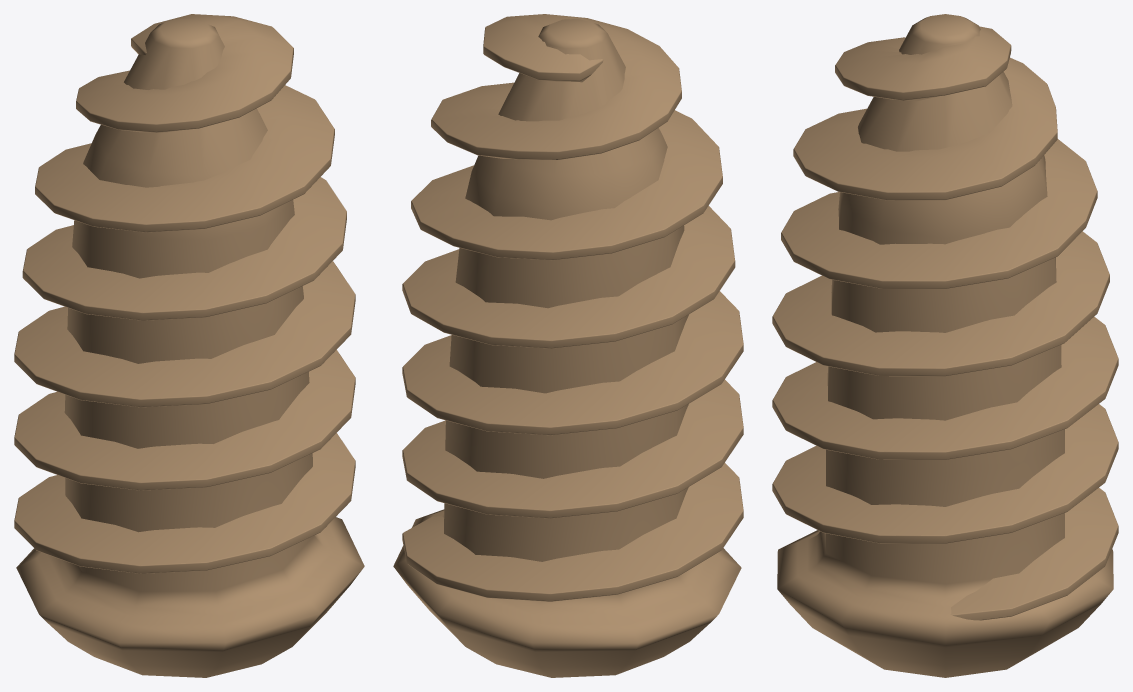
File: Tools_InterScrew_01.fbx
3 views of the same model, side by side, from view 1: azimuth 30°, elevation 25°; view 2: azimuth 150°, elevation 25°; view 3: azimuth 270°, elevation 25° (orthographic).
Parts seen in each view (by area): view 1: Tools_InterScrew_01:Tools_InterScrew_01; view 2: Tools_InterScrew_01:Tools_InterScrew_01; view 3: Tools_InterScrew_01:Tools_InterScrew_01.
Part boxes in pixels (x1,y1,x2,y2): Tools_InterScrew_01:Tools_InterScrew_01: [14, 14, 364, 677]; Tools_InterScrew_01:Tools_InterScrew_01: [393, 14, 743, 677]; Tools_InterScrew_01:Tools_InterScrew_01: [772, 14, 1118, 677].
Size of the model in its own units: 1.99 by 3.77 by 1.94.
